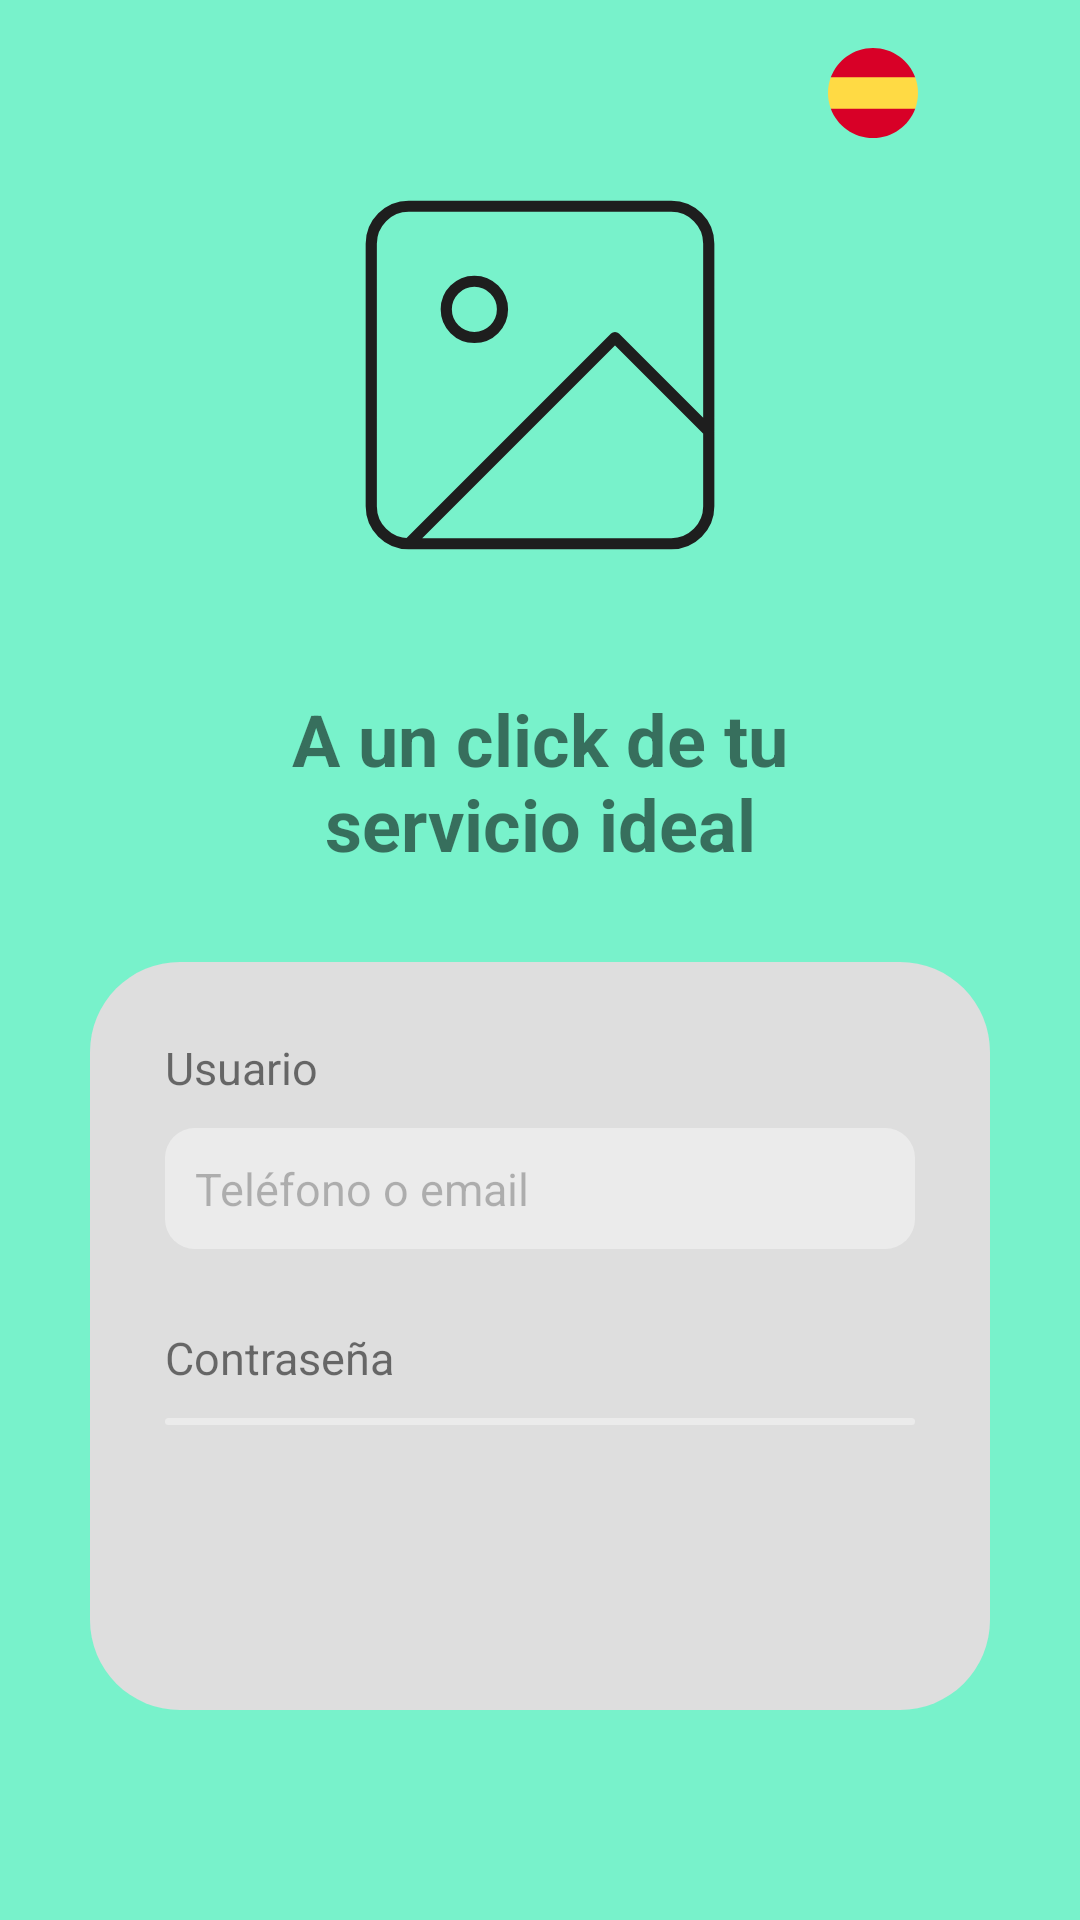

Icons on this 1080w x 1920h Android screen, each with the point to tap as point (x, y):
espanol: point (873, 93)
